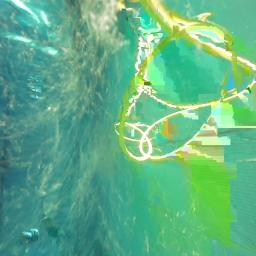Full: (18, 228, 42, 244)
